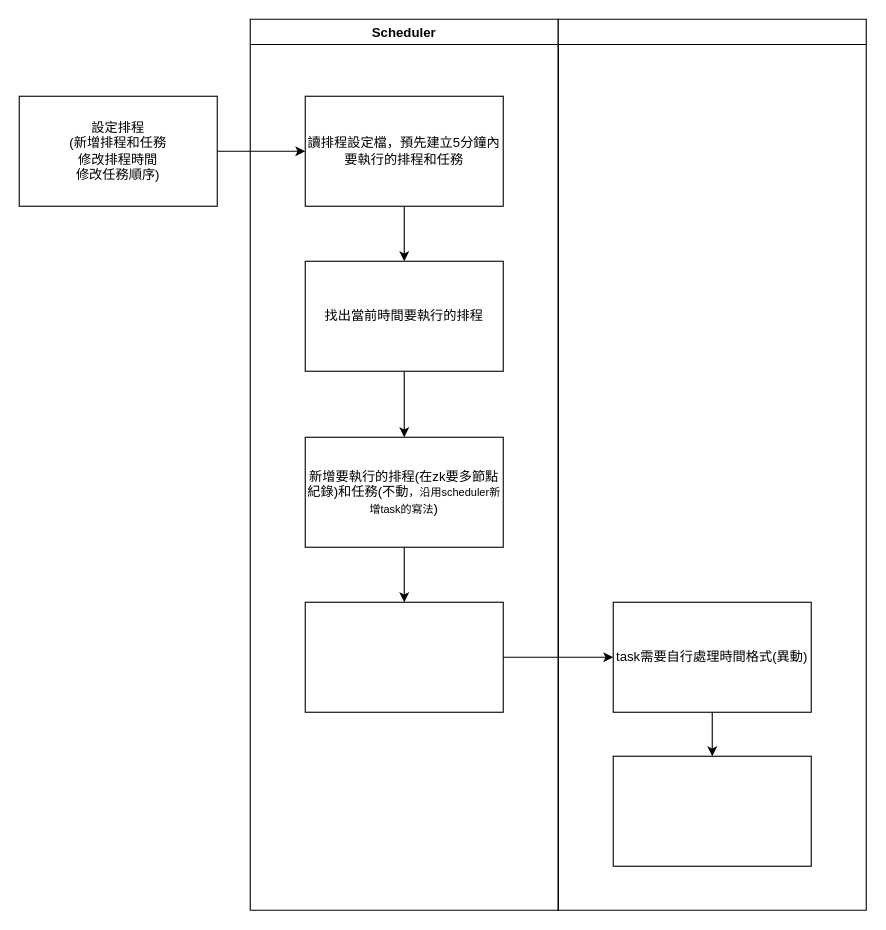
Image size: 886x930. Some labels were removed from this diagram. The shapes that lost their labels are listed below. From the top down, each one's box as (x1, y1, x2, y2) in pixels, then its label:
(557, 18, 866, 910): Executor
(304, 601, 503, 712): 分派可執行的任務或子任務給executor
(612, 755, 811, 866): 任務執行成功或報錯，也要一並更新排程狀態(dts lib異動)
